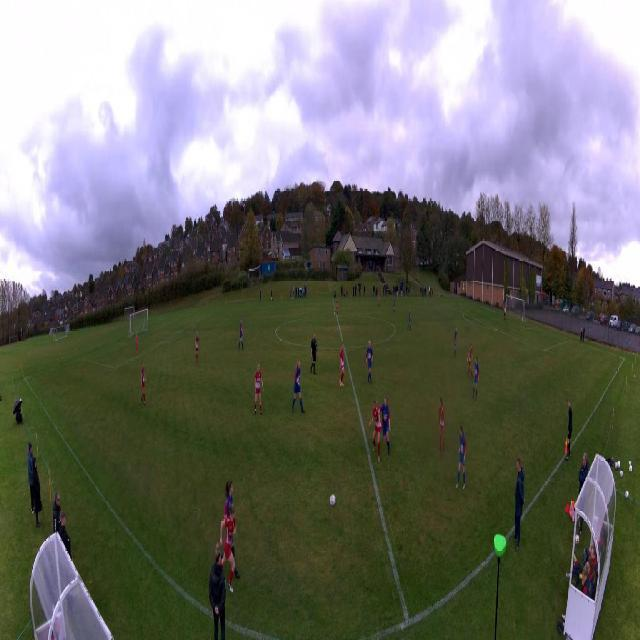ball: (330, 495, 336, 507)
player: (223, 475, 241, 579), (218, 504, 237, 593), (368, 397, 382, 463), (455, 426, 468, 492), (292, 359, 306, 415), (380, 396, 392, 457), (254, 362, 264, 419), (438, 397, 446, 455), (310, 332, 318, 373), (472, 357, 479, 402), (366, 339, 372, 384), (141, 361, 147, 406), (339, 342, 345, 386), (467, 345, 473, 377), (238, 320, 244, 349), (453, 326, 457, 357), (195, 332, 199, 361), (407, 309, 411, 331), (334, 298, 339, 315), (135, 333, 138, 354), (393, 297, 396, 314), (378, 291, 381, 307), (504, 306, 506, 323)
